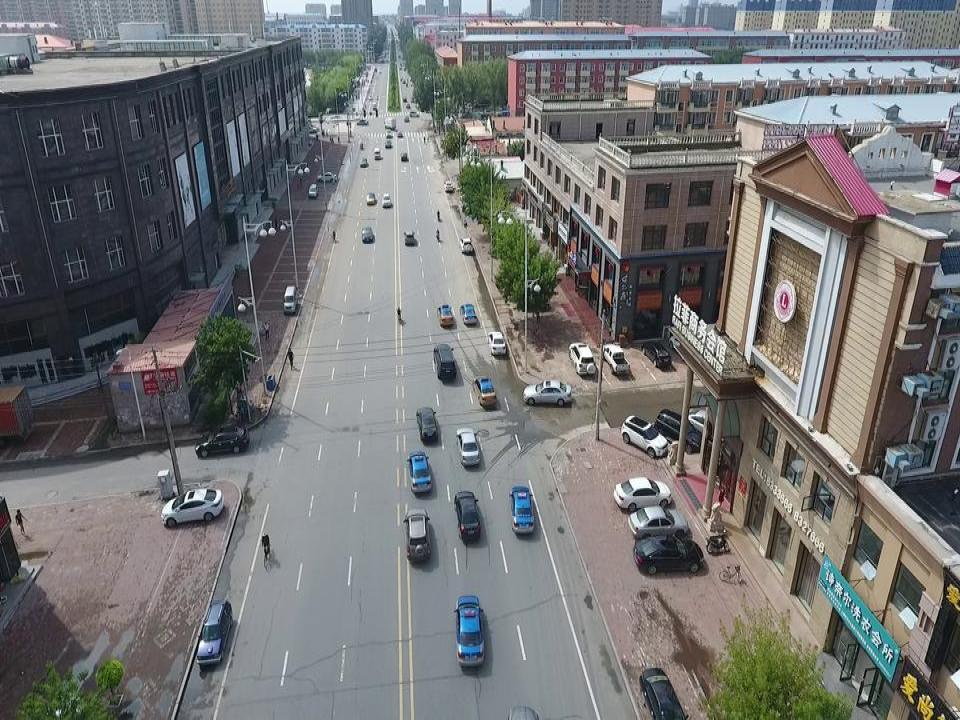car: (632, 536, 703, 575), (639, 666, 689, 720), (160, 488, 223, 528), (653, 406, 703, 454), (196, 600, 232, 665), (628, 505, 688, 540), (454, 595, 483, 665), (613, 477, 671, 512), (621, 413, 668, 456), (684, 408, 726, 448), (194, 427, 250, 456), (403, 508, 430, 563), (453, 491, 480, 540), (523, 379, 572, 405), (508, 486, 534, 534), (406, 451, 431, 493), (668, 333, 701, 364), (599, 342, 629, 374), (568, 343, 596, 377), (455, 428, 480, 465), (640, 340, 670, 369), (433, 344, 457, 380), (472, 374, 496, 406), (415, 407, 437, 441), (523, 293, 550, 311), (487, 330, 505, 354), (436, 304, 454, 327), (459, 303, 476, 325), (459, 237, 472, 255), (316, 171, 337, 181), (361, 227, 373, 244), (402, 231, 415, 245), (307, 183, 318, 197), (365, 191, 376, 205), (381, 193, 391, 208), (443, 182, 453, 194), (356, 118, 368, 127), (273, 216, 278, 235), (359, 157, 367, 168), (384, 139, 391, 148), (401, 152, 408, 161), (385, 130, 392, 138), (396, 130, 403, 138), (404, 115, 409, 121)
truck: (383, 117, 396, 131)
van: (283, 285, 298, 315), (373, 148, 380, 160)
